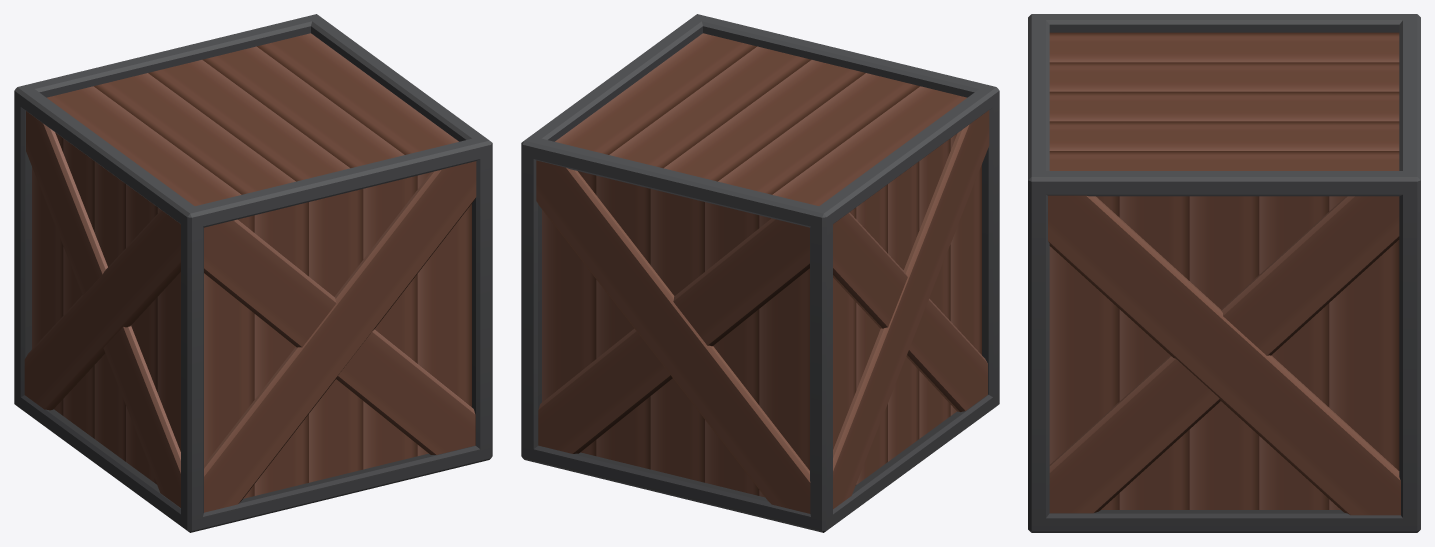
The model's file is Crate.fbx.
The picture shows the model from 3 angles, left to right: view 1: azimuth 30°, elevation 25°; view 2: azimuth 150°, elevation 25°; view 3: azimuth 270°, elevation 25°; orthographic projection. The views are drawn at different scales.
Visible parts, largest first — view 1: Crate; view 2: Crate; view 3: Crate.
Boxes of the visible parts, x1,y1,x2,y2 form: Crate: [14, 14, 492, 532]; Crate: [521, 14, 999, 532]; Crate: [1028, 14, 1420, 532].
Size of the model in its own units: 1.52 by 1.52 by 1.52.
